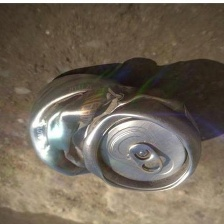can: (18, 68, 208, 202)
